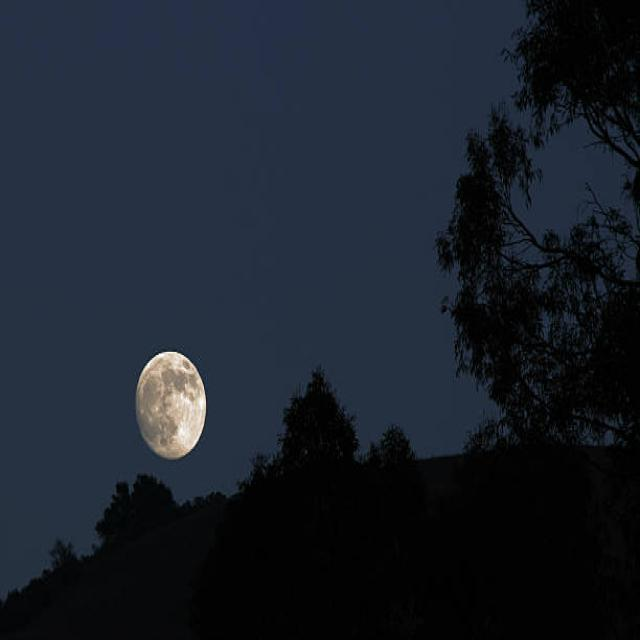moon: (128, 340, 208, 464)
